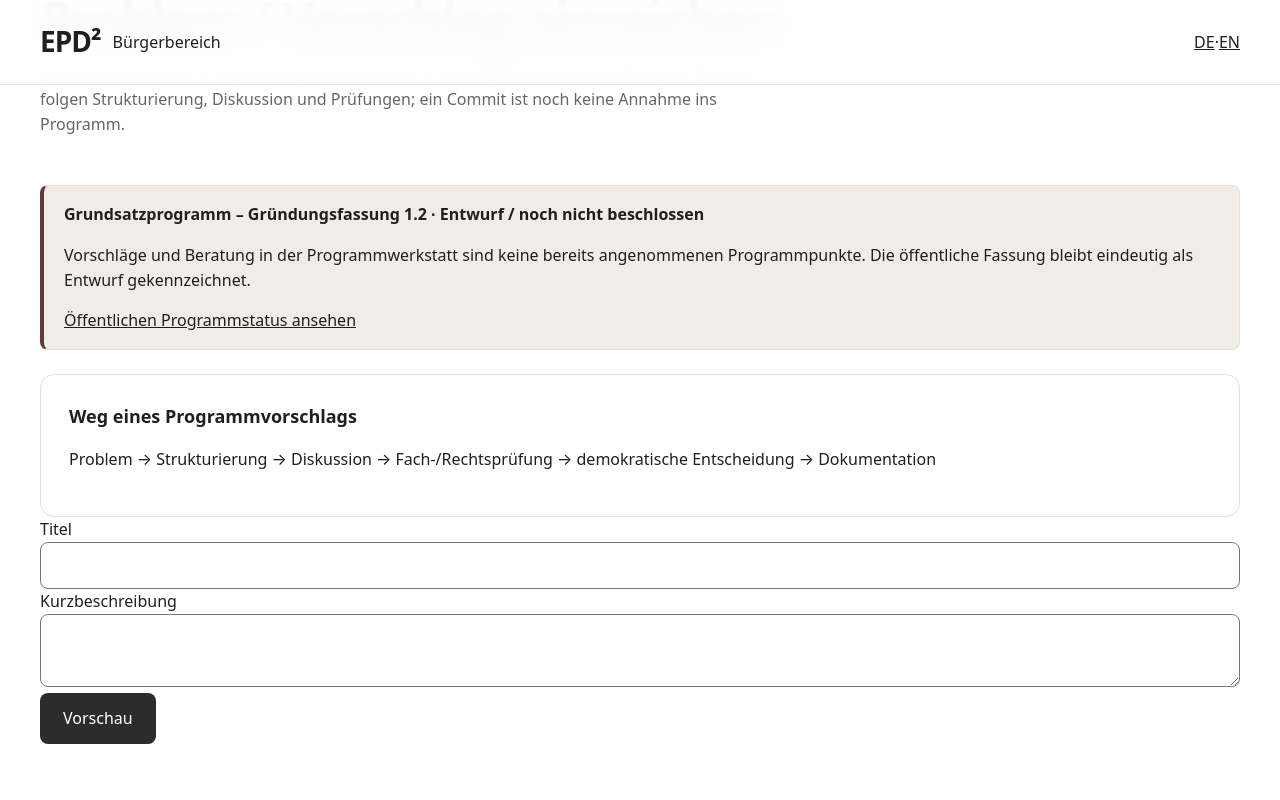
Test: FRONT-03 route application › requires preview before confirmation
The image size is (1280, 800).
(page scrolled)
Type "Eine Initiative" into the field labelled "Titel" at (640, 566), box x1=40 y1=542 x2=1240 y2=589
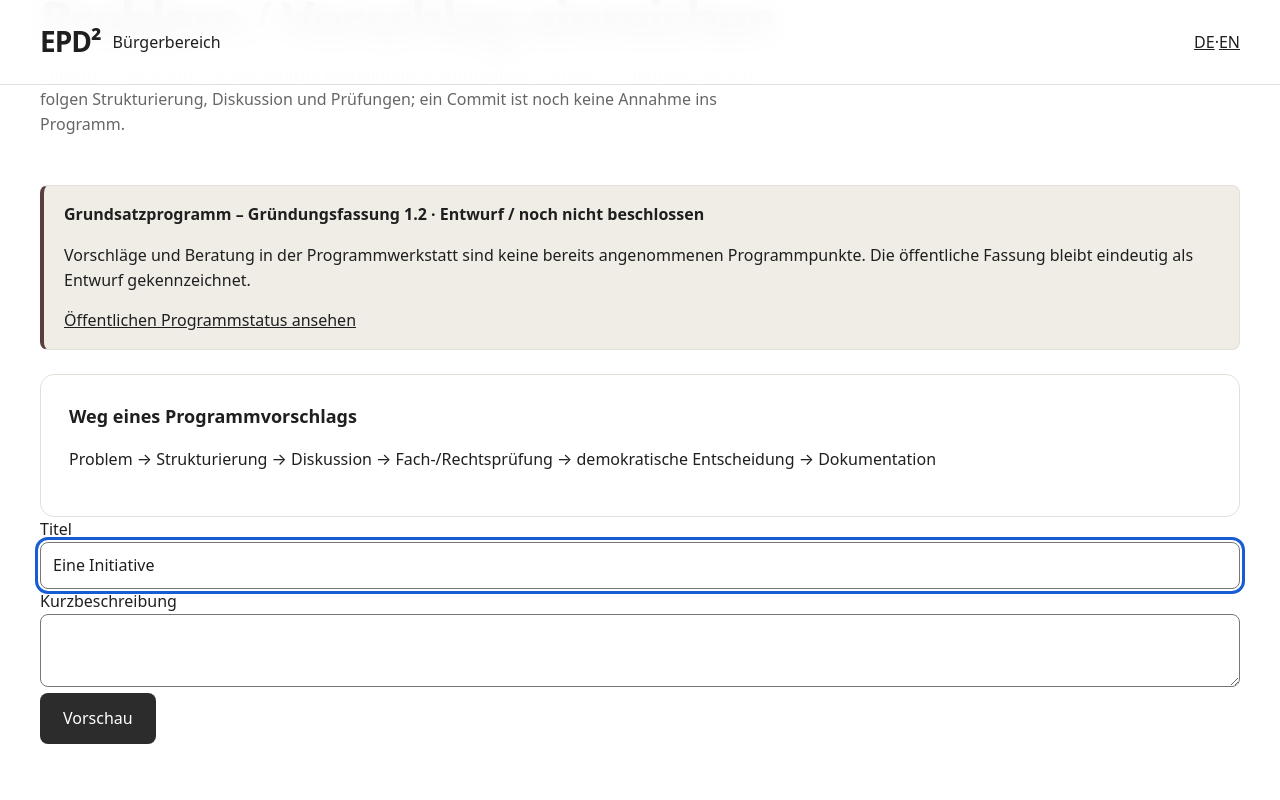
Type "Eine nachvollziehbare Beschreibung" into the text box labelled "Kurzbeschreibung" at (640, 650), box x1=40 y1=614 x2=1240 y2=686
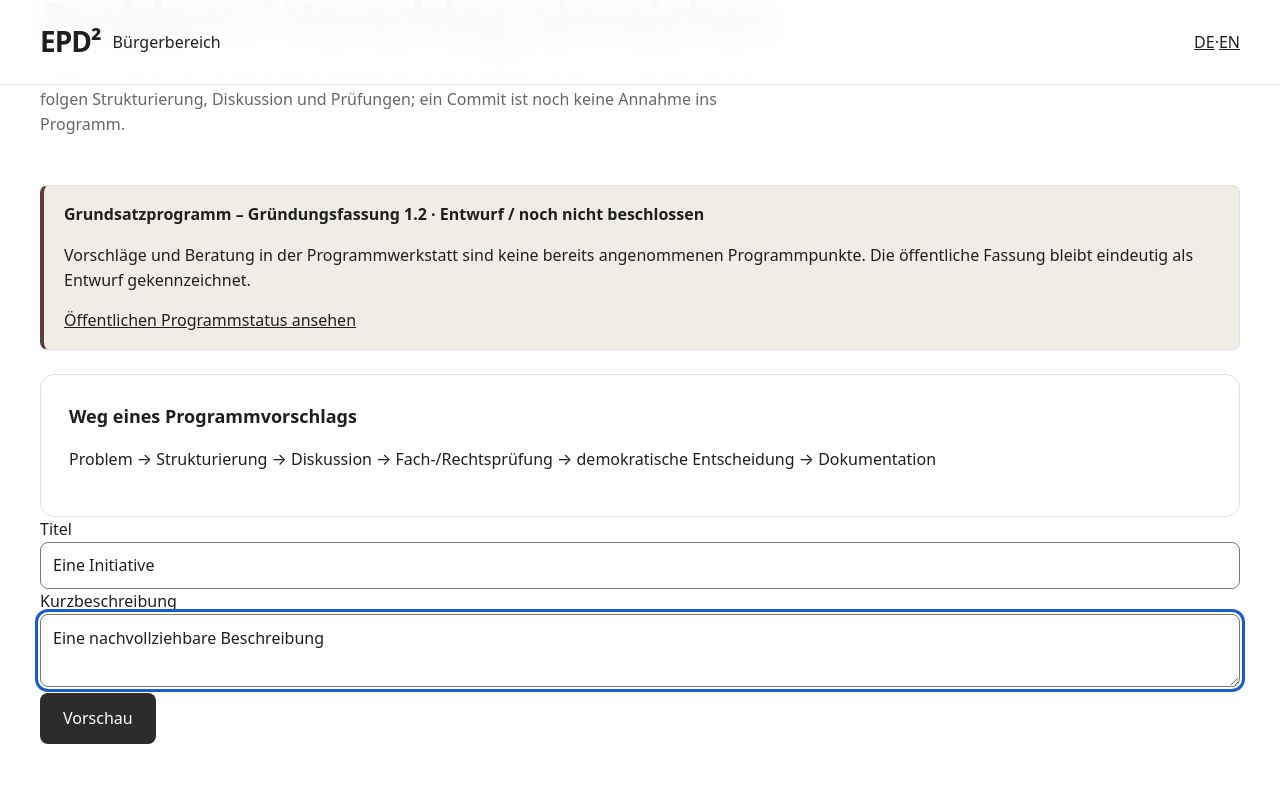
Click the button "Vorschau" at (98, 719), box x1=40 y1=693 x2=156 y2=744
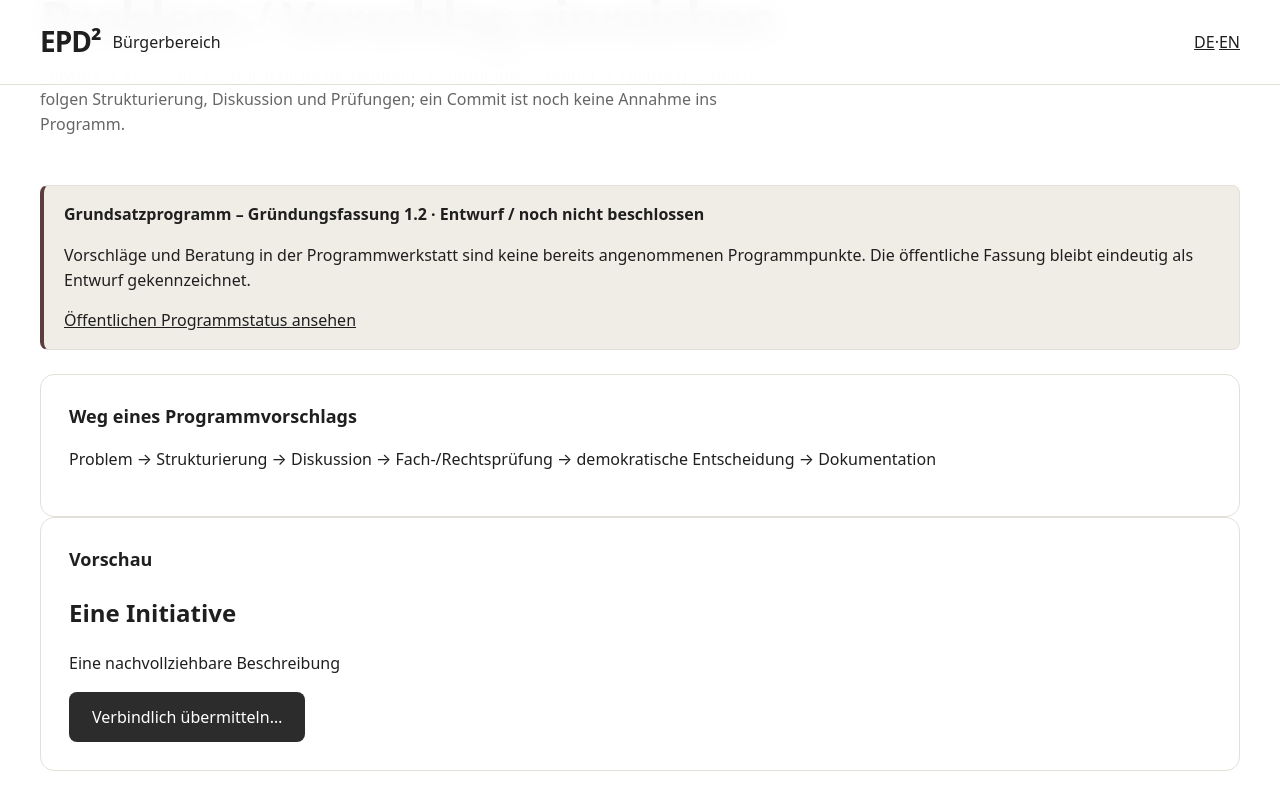
Expected: the heading "Eine Initiative" is shown, x1=69 y1=596 x2=236 y2=629
